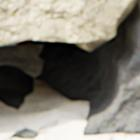brick: (0, 0, 135, 44), (0, 132, 139, 139)
crack: (0, 0, 139, 138)
